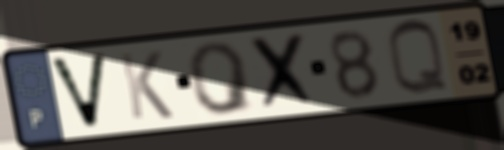8: (327, 27, 383, 101)
K: (116, 49, 177, 123)
Q: (184, 38, 259, 118), (383, 17, 453, 99)
V: (45, 50, 111, 132)
X: (246, 29, 322, 115)
